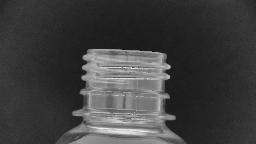No Cap: (67, 45, 181, 123)
